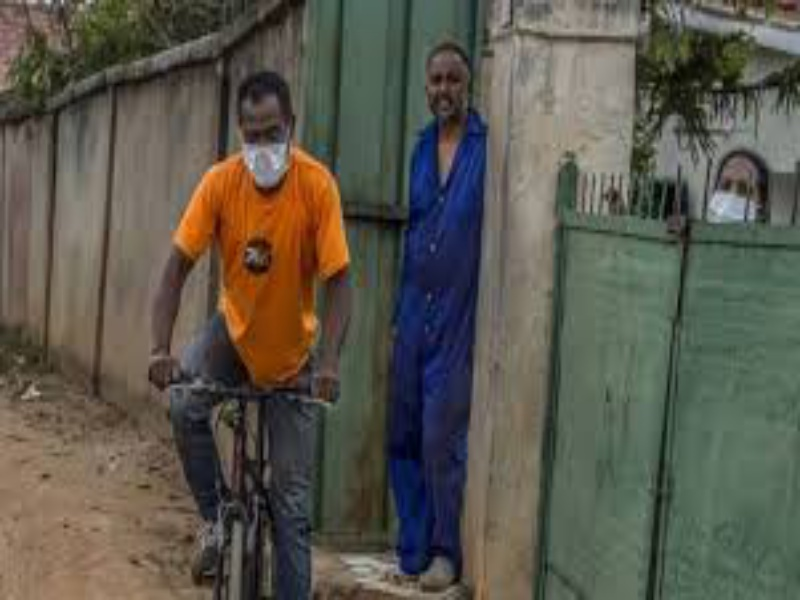ManaoArotava: (224, 69, 309, 199)
